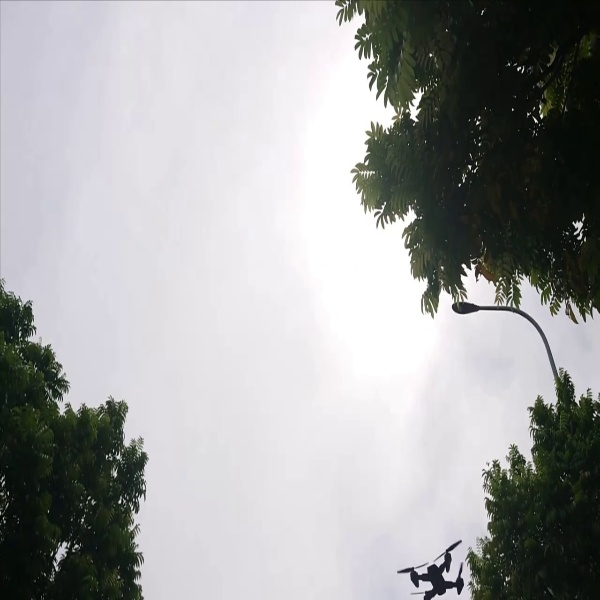drone: (397, 535, 466, 600)
